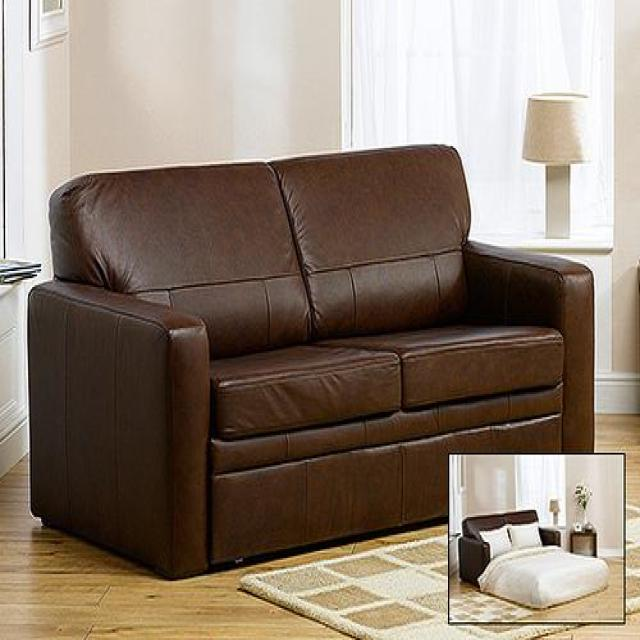sofa: (24, 140, 597, 582)
